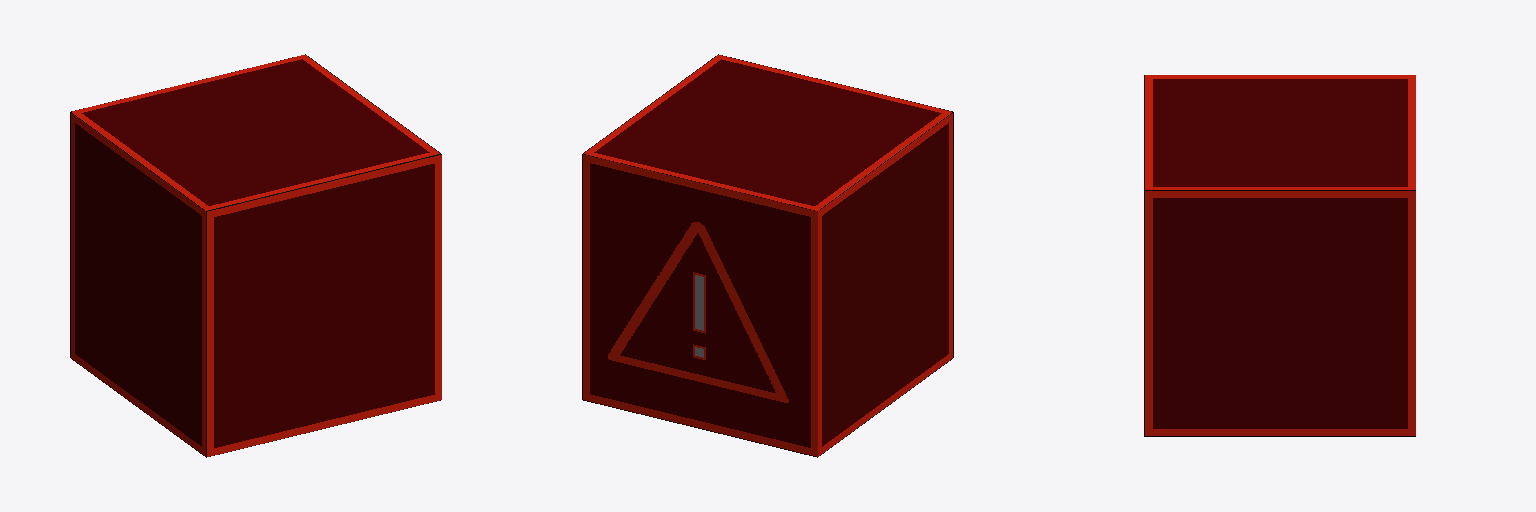
3 views of the same model, side by side, from view 1: azimuth 30°, elevation 25°; view 2: azimuth 150°, elevation 25°; view 3: azimuth 270°, elevation 25° (orthographic).
Visible parts, largest first — view 1: Cube; view 2: Cube; view 3: Cube.
Part boxes in pixels (left/top/right/bottom): Cube: left=70, top=54, right=441, bottom=457; Cube: left=582, top=54, right=953, bottom=457; Cube: left=1144, top=75, right=1415, bottom=436.
Bounding box in the file's own units: 2 × 2 × 2.
Materials: 1 (1 with a texture image).